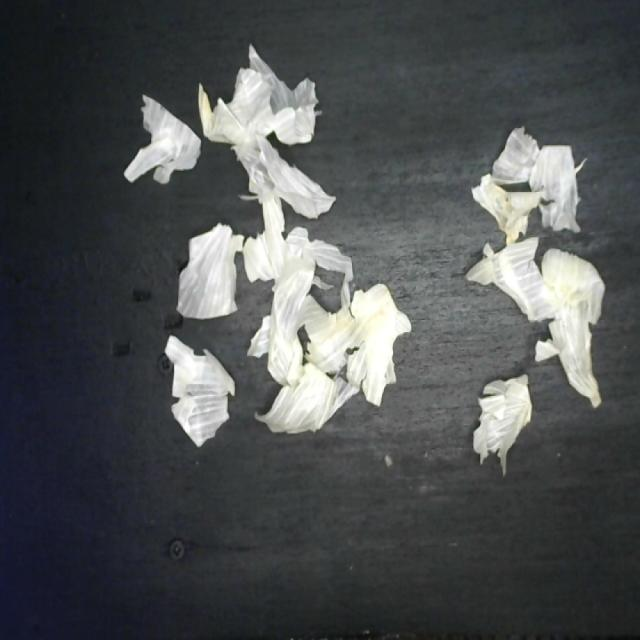biodegradable: (116, 34, 609, 497)
